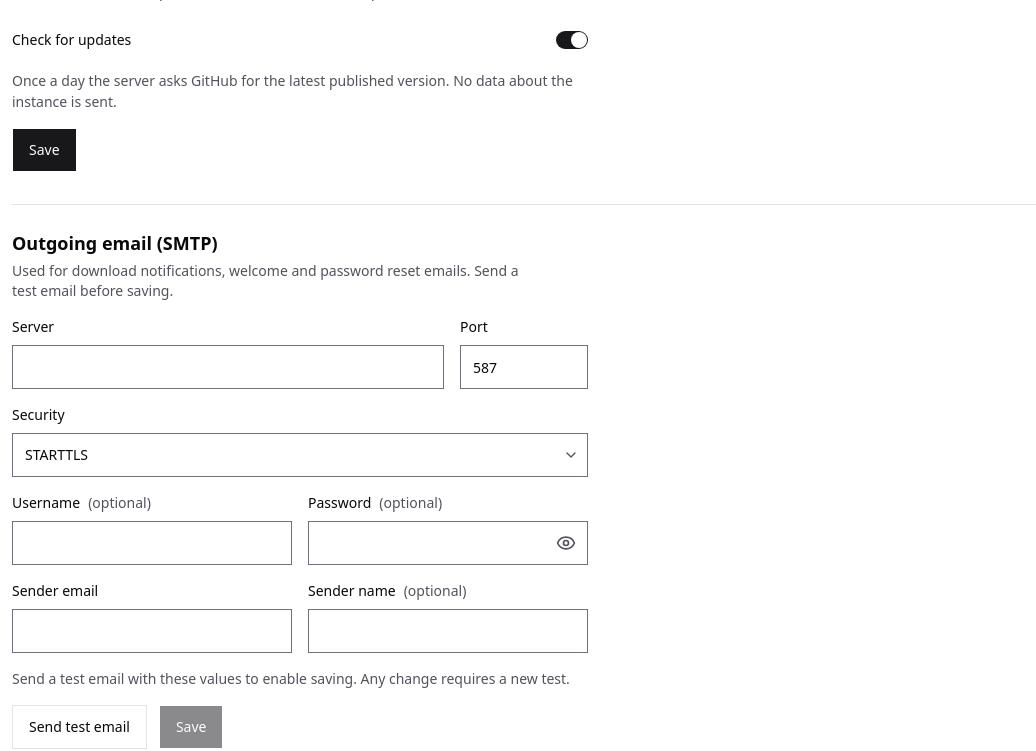
Test case: SettingsPage › shows the safe reason when the test email fails
(page scrolled)
Type "smtp.example.com" into the field labelled "Server". click: (228, 367)
box: [12, 345, 444, 389]
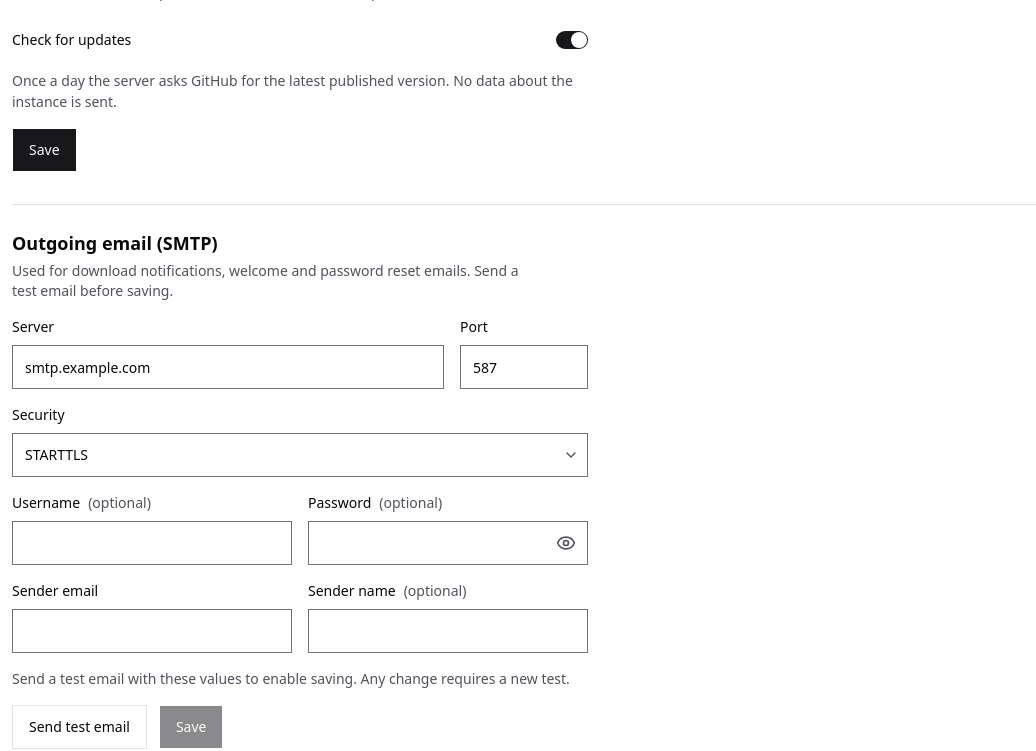
Type "noreply@example.com" into the field labelled "Sender email". click: (152, 631)
box: [12, 609, 292, 653]
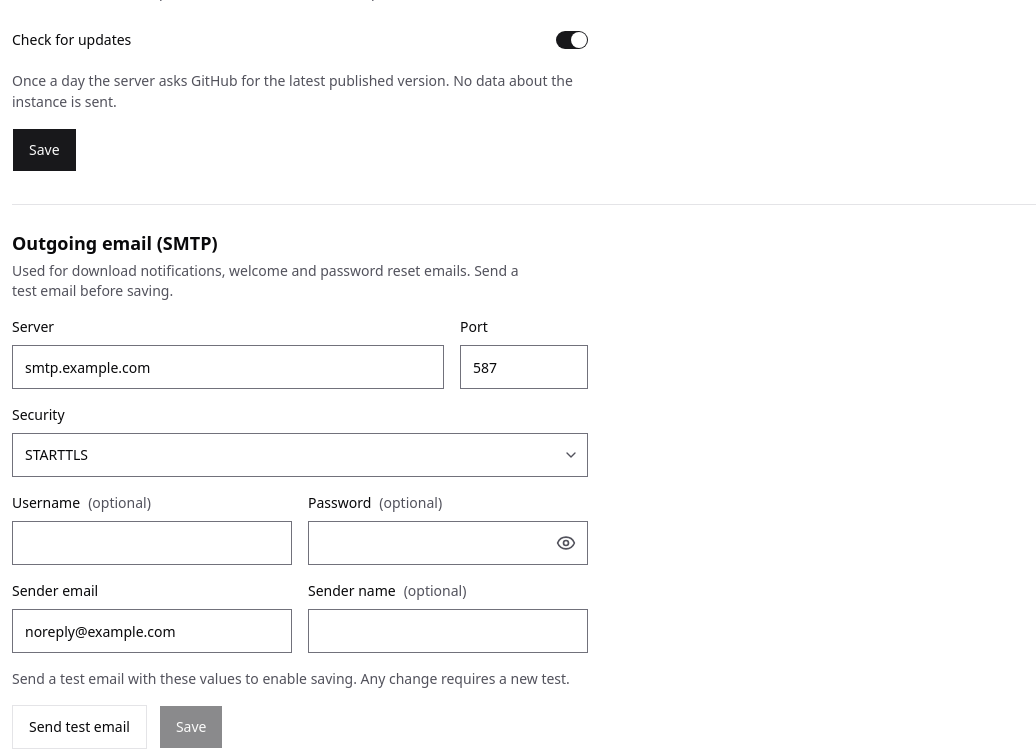
Click the button "Send test email". click: (79, 727)
box: [12, 705, 147, 749]
(page scrolled)
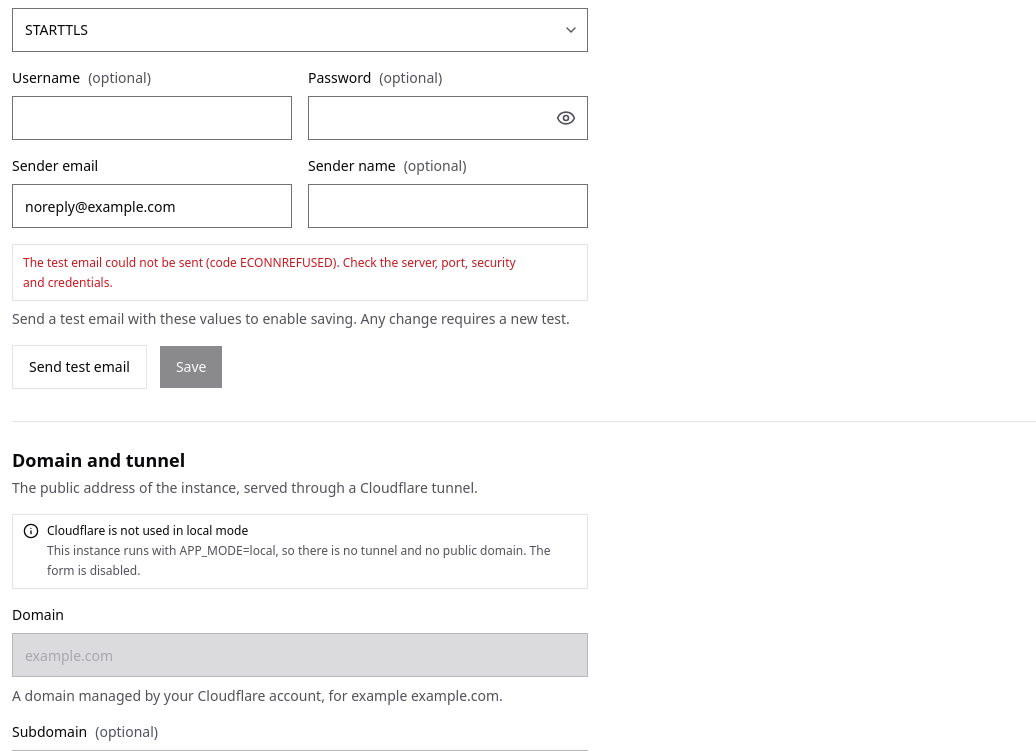
Expected: the button "Save" is disabled, [159, 345, 224, 389]
Expected: the text "code ECONNREFUSED" is shown, [23, 254, 516, 290]
